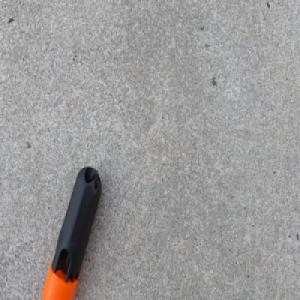PlasticPart: (39, 161, 101, 300)
